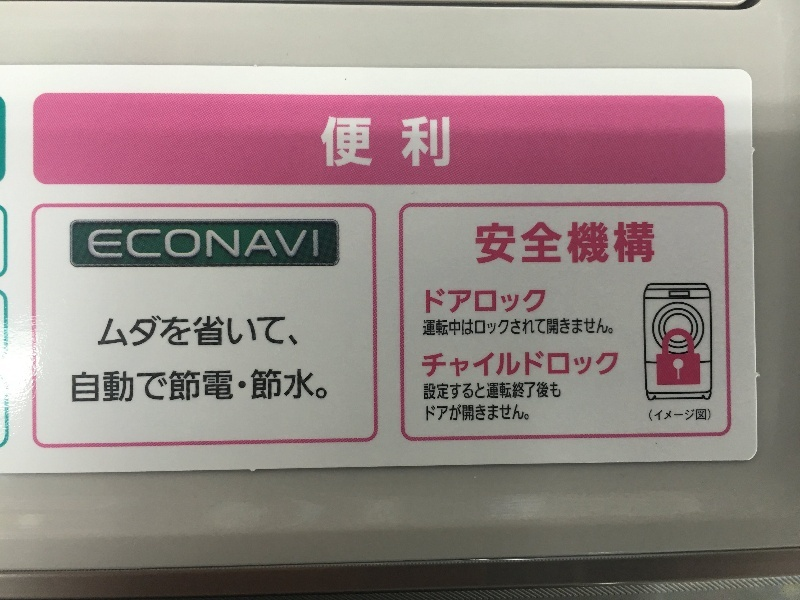text: (321, 117, 336, 170), (337, 117, 352, 170), (353, 117, 368, 170), (369, 117, 384, 170), (385, 117, 400, 170), (401, 117, 416, 170), (417, 117, 432, 170), (433, 117, 448, 170), (481, 222, 496, 267), (497, 222, 512, 267), (513, 222, 528, 267), (529, 222, 544, 267), (545, 222, 560, 267), (561, 222, 576, 267), (577, 222, 592, 267), (593, 222, 608, 267), (609, 222, 624, 267), (625, 222, 640, 267), (641, 222, 656, 267), (81, 369, 96, 403), (97, 369, 112, 403), (113, 369, 128, 403), (129, 369, 144, 403), (145, 369, 160, 403), (161, 369, 176, 403), (177, 369, 192, 403), (193, 369, 208, 403), (209, 369, 224, 403), (225, 369, 240, 403), (241, 369, 256, 403), (257, 369, 272, 403), (273, 369, 288, 403), (289, 369, 304, 403), (305, 369, 320, 403), (113, 316, 128, 347), (129, 316, 144, 347), (145, 316, 160, 347), (161, 316, 176, 347), (177, 316, 192, 347), (193, 316, 208, 347), (209, 316, 224, 347), (225, 316, 240, 347), (241, 316, 256, 347), (257, 316, 272, 347), (273, 316, 288, 347), (97, 229, 112, 258), (113, 229, 128, 258), (129, 229, 144, 258), (145, 229, 160, 258), (161, 229, 176, 258), (177, 229, 192, 258), (193, 229, 208, 258), (209, 229, 224, 258), (225, 229, 240, 258), (241, 229, 256, 258), (257, 229, 272, 258), (273, 229, 288, 258), (289, 229, 304, 258), (305, 229, 320, 258), (433, 351, 448, 378), (449, 351, 464, 378), (465, 351, 480, 378), (481, 351, 496, 378), (497, 351, 512, 378), (513, 351, 528, 378), (529, 351, 544, 378), (545, 351, 560, 378), (561, 351, 576, 378), (577, 351, 592, 378), (593, 351, 608, 378), (99, 316, 112, 347), (433, 289, 448, 314), (449, 289, 464, 314), (465, 289, 480, 314), (481, 289, 496, 314), (497, 289, 512, 314), (513, 289, 528, 314), (529, 289, 544, 314), (433, 317, 448, 337), (449, 317, 464, 337), (465, 317, 480, 337), (481, 317, 496, 337), (497, 317, 512, 337), (513, 317, 528, 337), (529, 317, 544, 337), (545, 317, 560, 337), (561, 317, 576, 337), (577, 317, 592, 337), (593, 317, 608, 337), (545, 382, 561, 400), (289, 316, 298, 347), (422, 351, 432, 378), (433, 382, 448, 400), (449, 382, 464, 400), (465, 382, 480, 400), (481, 382, 496, 400), (497, 382, 512, 400), (513, 382, 528, 400), (529, 382, 544, 400), (433, 404, 448, 421), (449, 404, 464, 421), (465, 404, 480, 421), (481, 404, 496, 421), (497, 404, 512, 421), (513, 404, 528, 421), (609, 351, 618, 378), (73, 369, 80, 403), (321, 369, 327, 403), (89, 229, 96, 258), (476, 222, 480, 267), (657, 409, 672, 421), (673, 409, 688, 421), (689, 409, 704, 421), (423, 382, 432, 400), (424, 317, 432, 337), (426, 289, 432, 314), (449, 117, 451, 170), (426, 404, 432, 421), (609, 317, 613, 337), (650, 409, 656, 421), (705, 409, 711, 421), (545, 289, 546, 314), (529, 404, 530, 421)
